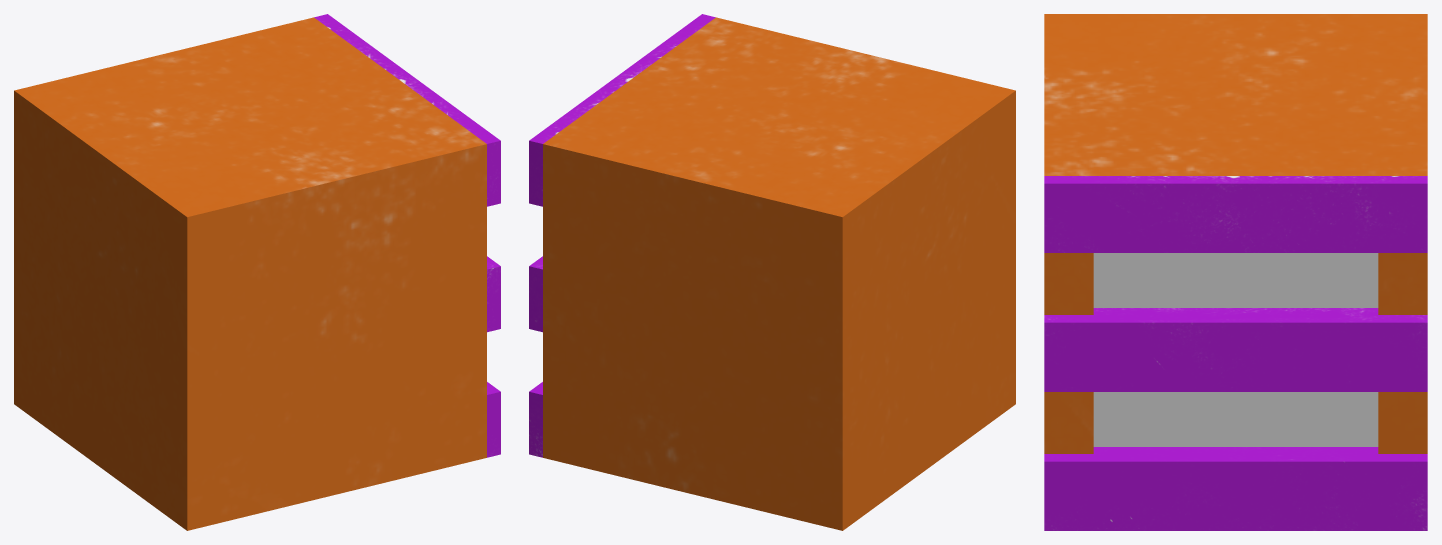
The model's file is building_2.fbx.
3 renders of one model, left to right at view 1: azimuth 30°, elevation 25°; view 2: azimuth 150°, elevation 25°; view 3: azimuth 270°, elevation 25°, orthographic. The views are drawn at different scales.
Parts seen in each view (by area): view 1: Cube.006; view 2: Cube.006; view 3: Cube.006.
Boxes of the visible parts, x1,y1,x2,y2 form: Cube.006: (14,14,500,530); Cube.006: (529,14,1015,530); Cube.006: (1044,14,1427,530).
Size of the model in its own units: 210 by 201 by 201.
Materials: 3 (2 with a texture image).
